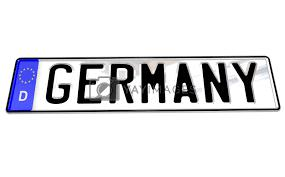A: (171, 61, 198, 107)
E: (75, 61, 106, 106)
G: (44, 62, 74, 106)
M: (140, 61, 170, 107)
N: (200, 61, 231, 106)
R: (108, 61, 136, 106)
Y: (231, 61, 258, 105)
